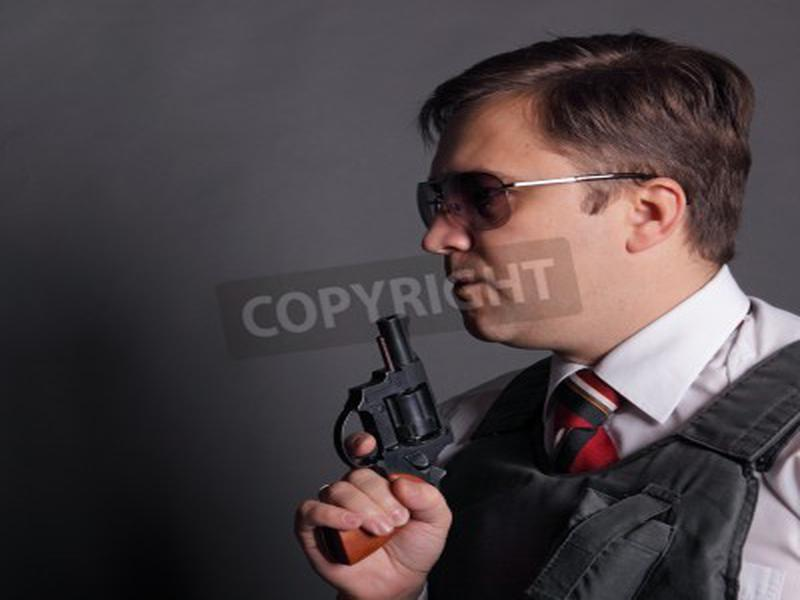Revolver: (321, 307, 464, 499)
